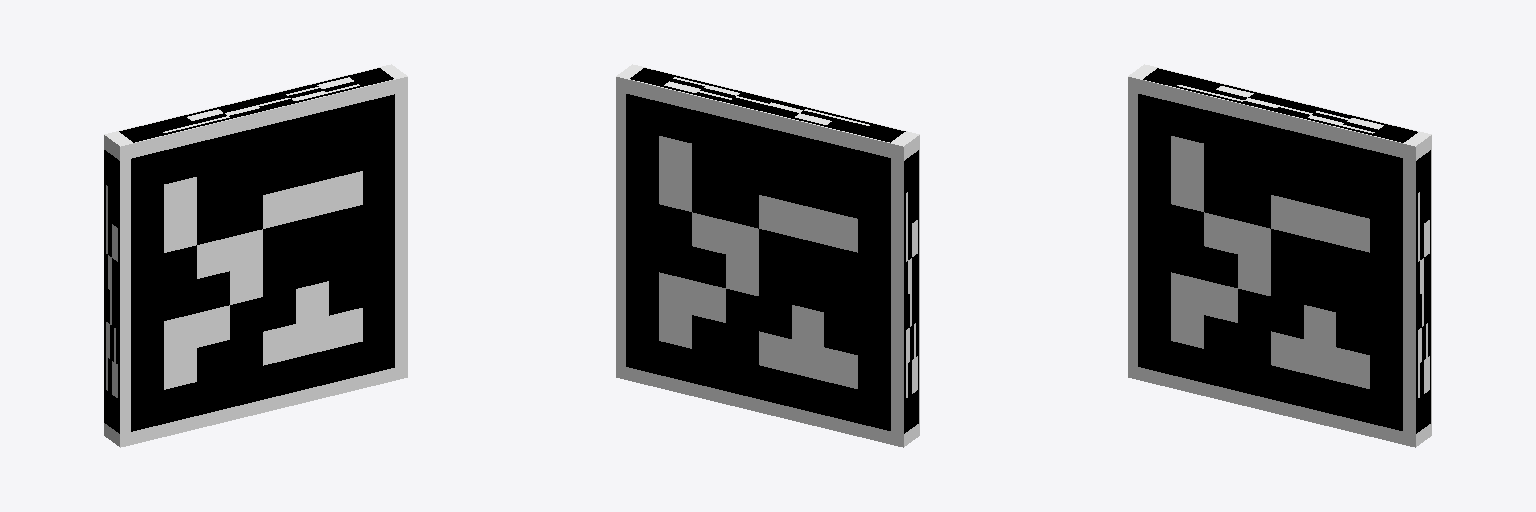
3 views of the same model, side by side, from view 1: azimuth 30°, elevation 25°; view 2: azimuth 150°, elevation 25°; view 3: azimuth 330°, elevation 25° (orthographic).
Parts seen in each view (by area): view 1: Cube; view 2: Cube; view 3: Cube.
Part boxes in pixels (x1,y1,x2,y2): Cube: (104, 64, 407, 447); Cube: (616, 64, 919, 447); Cube: (1128, 64, 1431, 447).
Size of the model in its own units: 2 by 2 by 0.2.
1 materials, 1 textured.